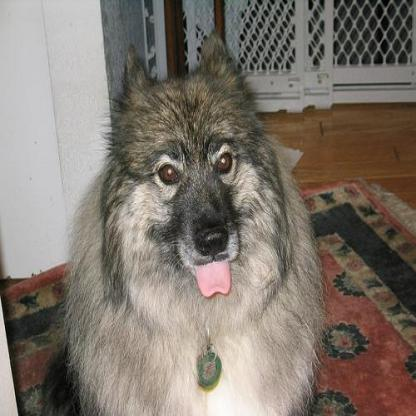keeshond: (61, 32, 320, 412)
